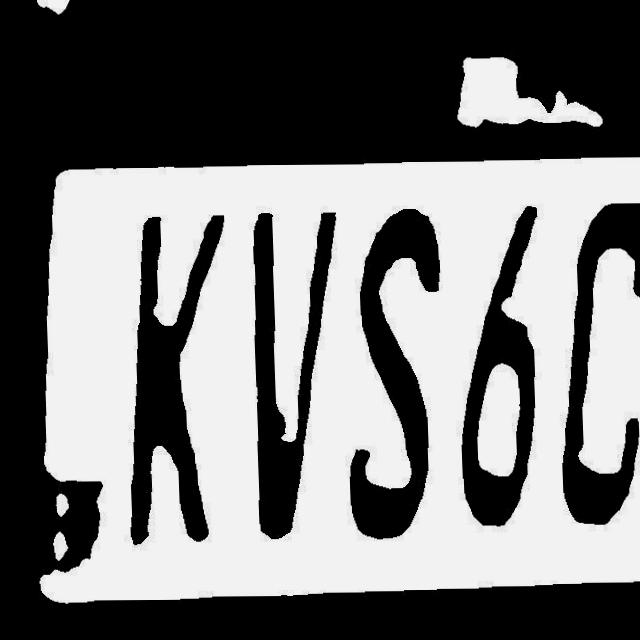6: (442, 202, 561, 531)
c: (550, 192, 640, 526)
k: (115, 209, 246, 536)
s: (335, 200, 455, 548)
v: (242, 205, 349, 537)
